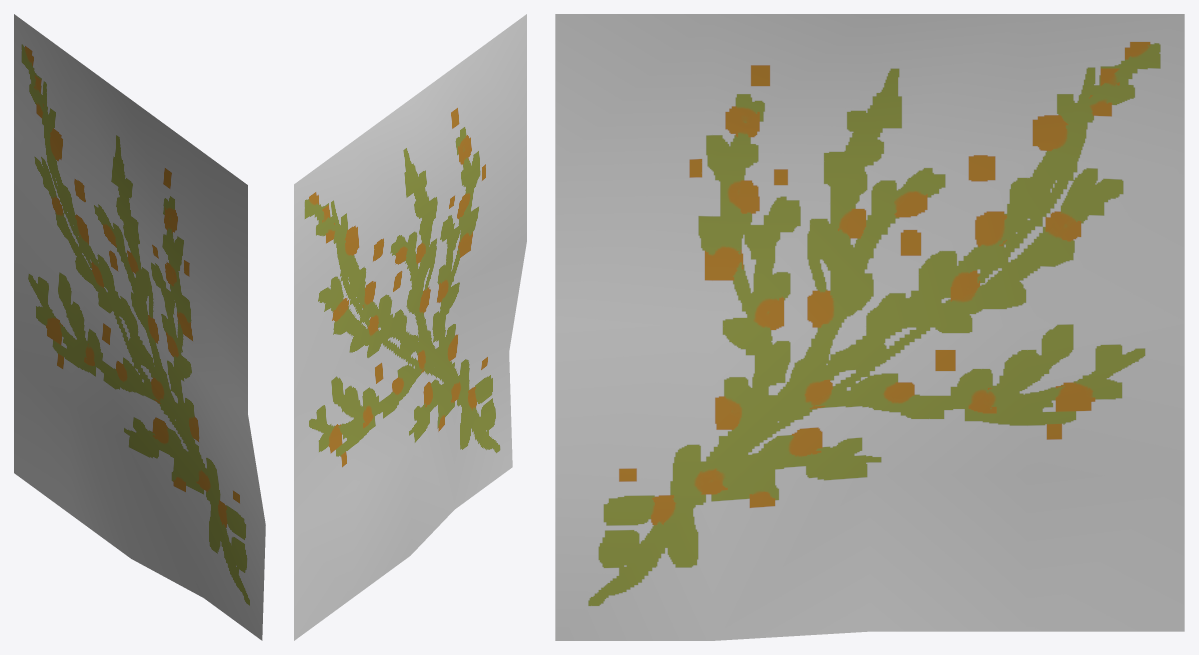
Rendered from Flower 1 b.FBX.
The picture shows the model from 3 angles, left to right: view 1: azimuth 30°, elevation 25°; view 2: azimuth 150°, elevation 25°; view 3: azimuth 270°, elevation 25°; orthographic projection. The views are drawn at different scales.
Visible parts, largest first — view 1: Plane011; view 2: Plane011; view 3: Plane011.
Part boxes in pixels (<box>): Plane011: <box>14,14,265,640</box>; Plane011: <box>294,14,526,640</box>; Plane011: <box>555,14,1184,640</box>.
Bounding box in the file's own units: 1.22 × 19.07 × 17.61.
